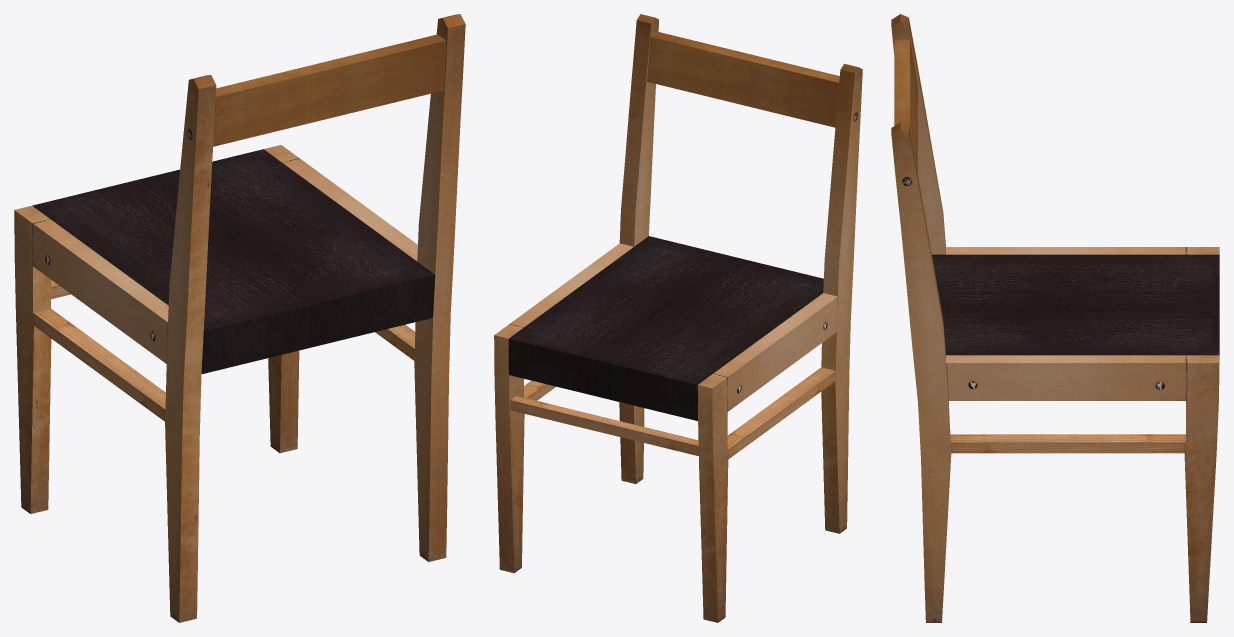
Rendered from chair (FBX).FBX.
3 views of the same model, side by side, from view 1: azimuth 30°, elevation 25°; view 2: azimuth 150°, elevation 25°; view 3: azimuth 270°, elevation 25° (orthographic). The views are drawn at different scales.
Parts seen in each view (by area): view 1: chair; view 2: chair; view 3: chair.
Part boxes in pixels (x1,y1,x2,y2): chair: [14, 14, 465, 622]; chair: [494, 14, 862, 622]; chair: [891, 14, 1219, 622].
Size of the model in its own units: 28.17 by 55.87 by 33.69.
Materials: 1 (1 with a texture image).
